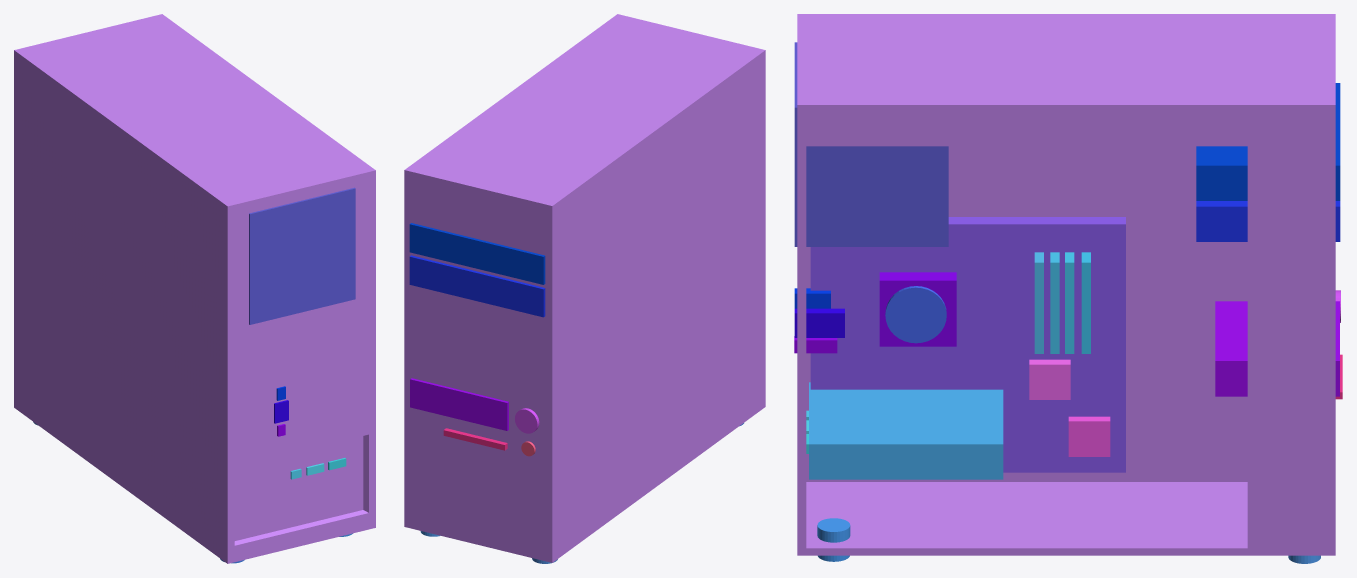
File: pc_block_colored 1.fbx
The picture shows the model from 3 angles, left to right: view 1: azimuth 30°, elevation 25°; view 2: azimuth 150°, elevation 25°; view 3: azimuth 270°, elevation 25°; orthographic projection. The views are drawn at different scales.
Visible parts, largest first — view 1: Cylinder.006; view 2: Cylinder.006; view 3: Cylinder.006.
Boxes of the visible parts, x1,y1,x2,y2 form: Cylinder.006: (14, 14, 375, 563); Cylinder.006: (404, 14, 765, 563); Cylinder.006: (794, 14, 1342, 563).
Size of the model in its own units: 80.14 by 190 by 204.
